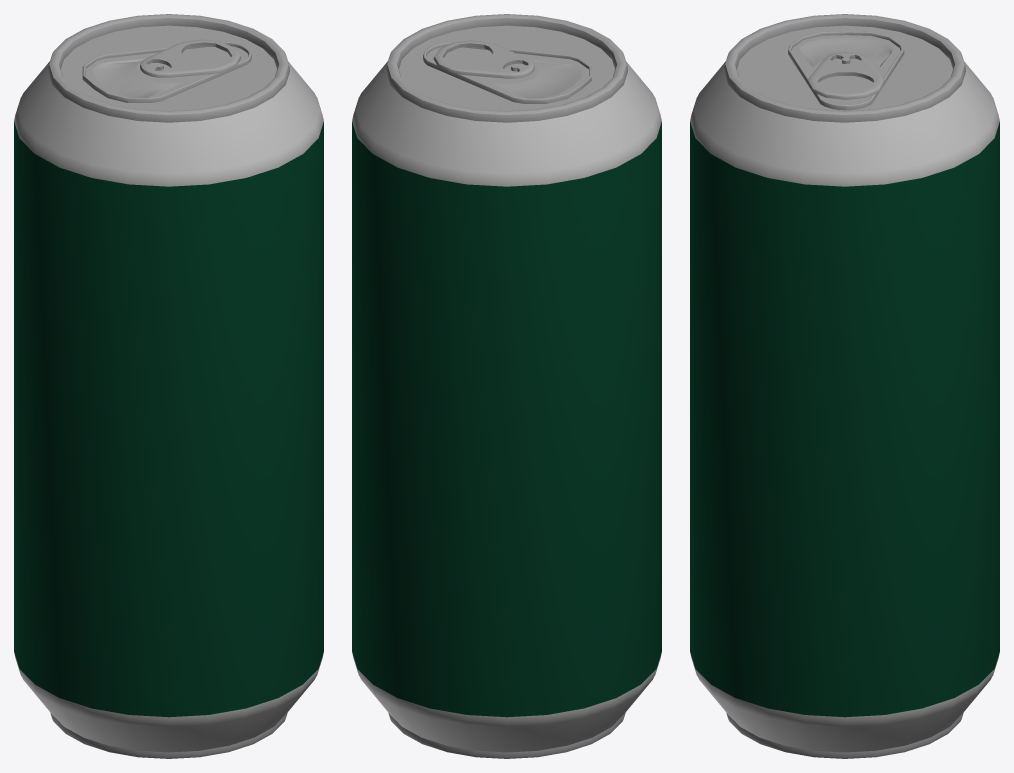
File: Drinks_03.glb
3 renders of one model, left to right at view 1: azimuth 30°, elevation 25°; view 2: azimuth 150°, elevation 25°; view 3: azimuth 270°, elevation 25°, orthographic.
Visible parts, largest first — view 1: Mesh_Drinks_03; view 2: Mesh_Drinks_03; view 3: Mesh_Drinks_03.
Part boxes in pixels (x1,y1,x2,y2): Mesh_Drinks_03: (14,14,323,758); Mesh_Drinks_03: (352,14,661,758); Mesh_Drinks_03: (690,14,999,758).
Bounding box in the file's own units: 0.0653 × 0.1503 × 0.0653.
1 material, 1 textured.
